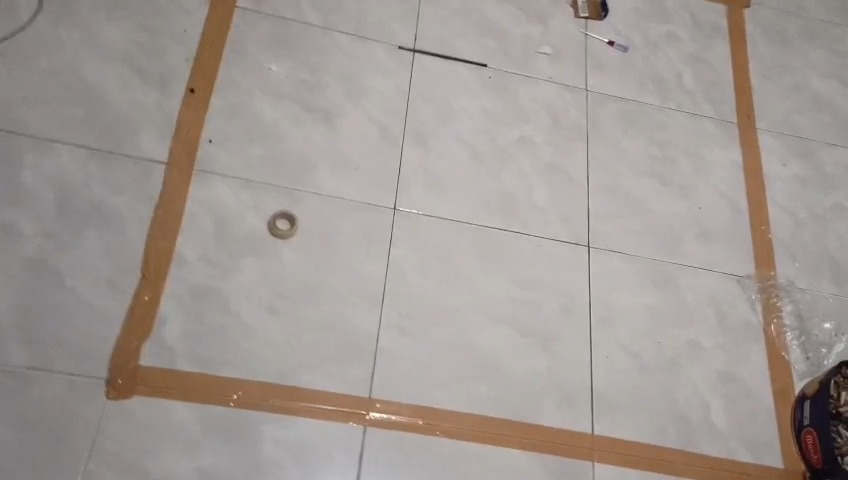floor marking: (106, 0, 803, 479)
